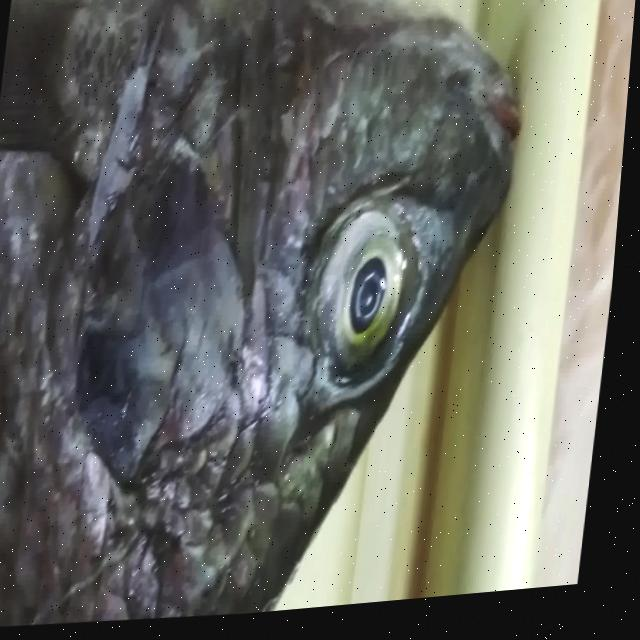Non-Fresh: (297, 182, 450, 415)
